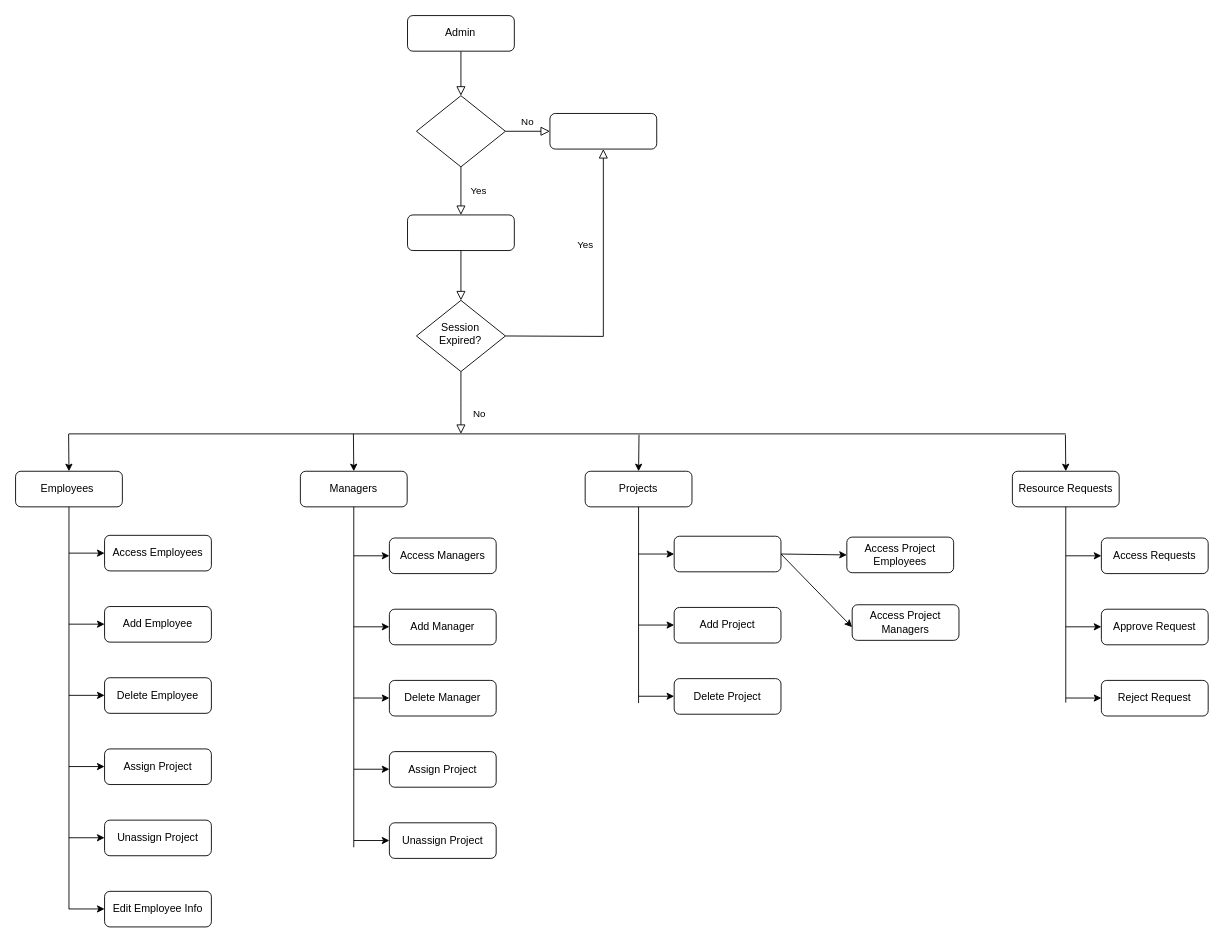
This 1224x943 diagram has some shape labels left out. Each missing label, with the centre of its shape:
"Access Projects" goes at [727,553].
"Dashboard" goes at [460,232].
"Logged In?" goes at [460,131].
"Login" goes at [603,131].
